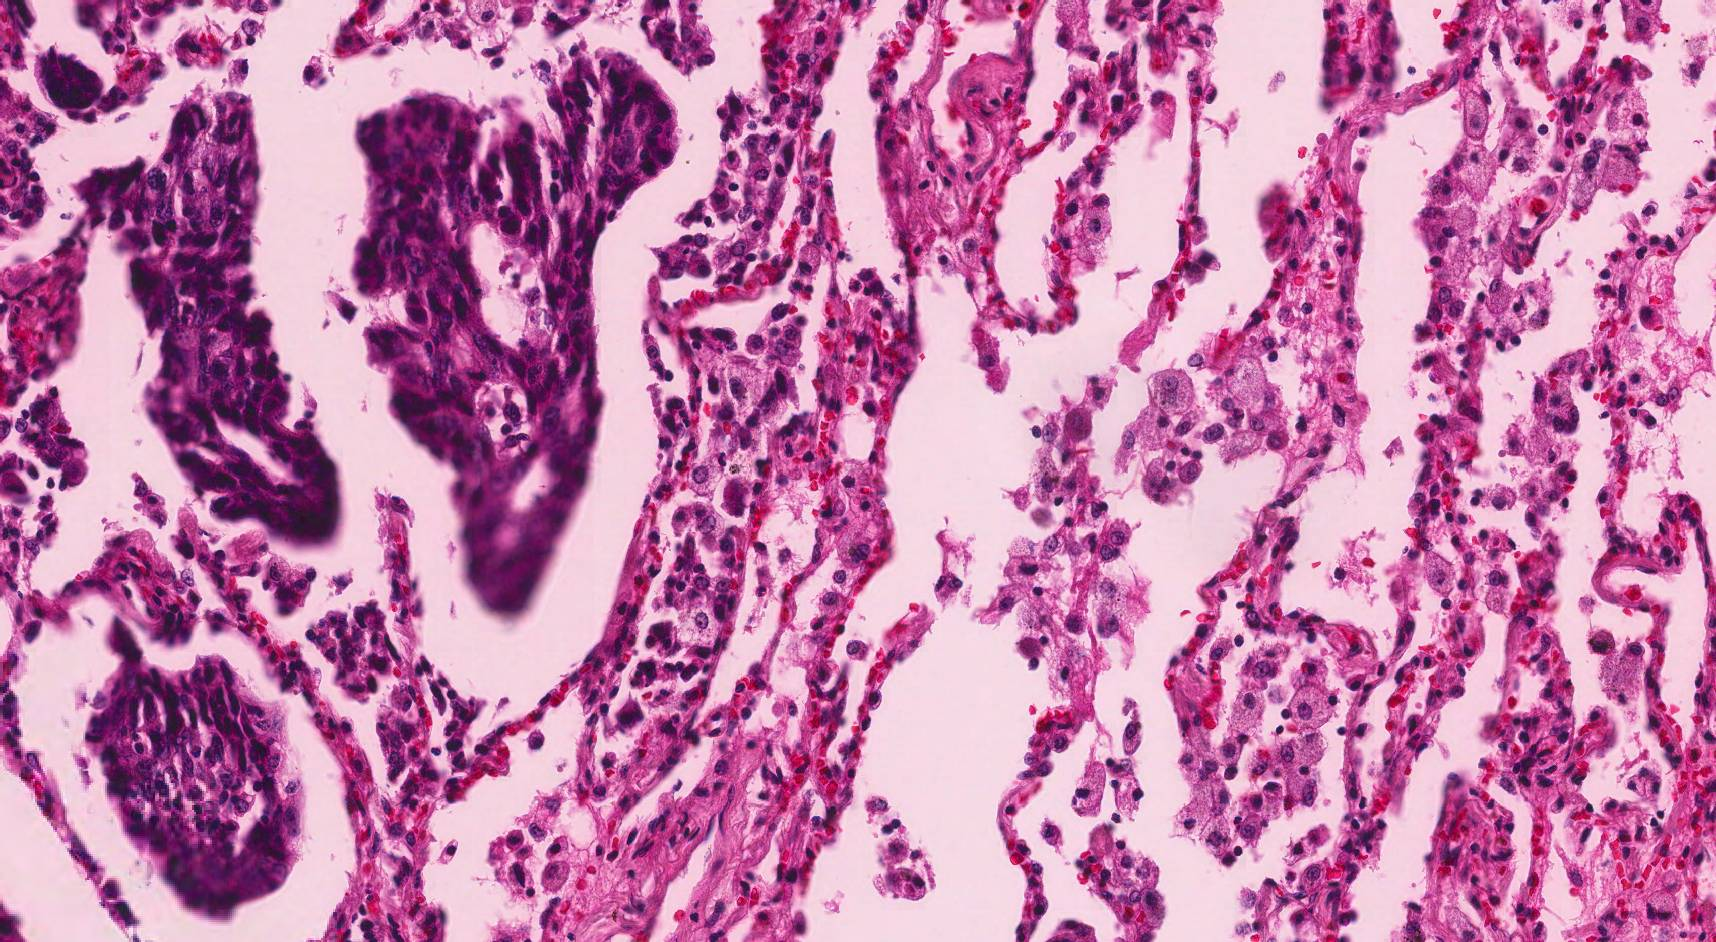stas: (350, 48, 676, 617), (78, 91, 340, 547), (80, 616, 306, 922), (33, 45, 101, 110)
